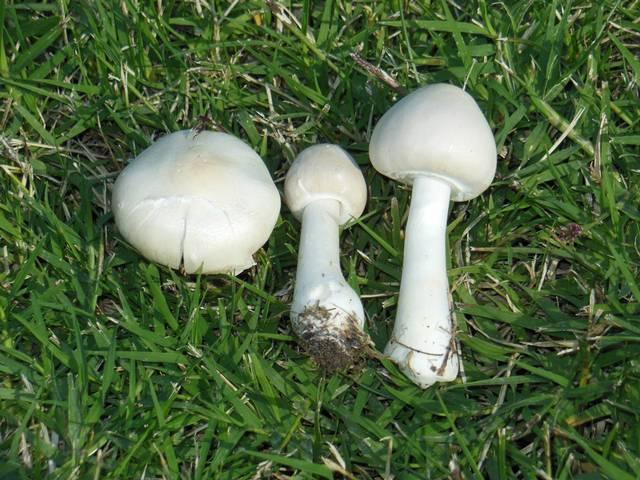Non-edible Mushroom: (367, 81, 498, 389), (110, 127, 281, 277), (282, 142, 370, 372)
